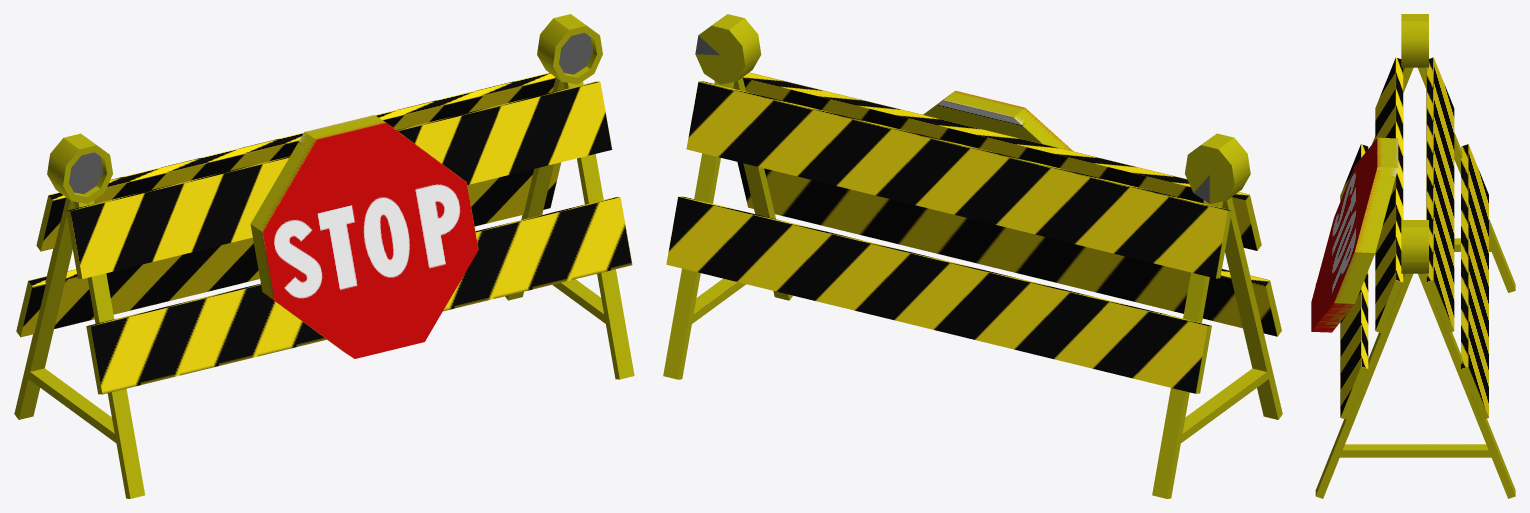
File: stop.fbx
3 views of the same model, side by side, from view 1: azimuth 30°, elevation 25°; view 2: azimuth 150°, elevation 25°; view 3: azimuth 270°, elevation 25° (orthographic). The views are drawn at different scales.
Parts seen in each view (by area): view 1: Plane_4; view 2: Plane_4; view 3: Plane_4.
Part boxes in pixels (x1,y1,x2,y2): Plane_4: (14, 14, 634, 498); Plane_4: (663, 14, 1282, 498); Plane_4: (1311, 14, 1515, 498).
Bounding box in the file's own units: 70.74 × 39.59 × 26.92.
1 material, 1 textured.
